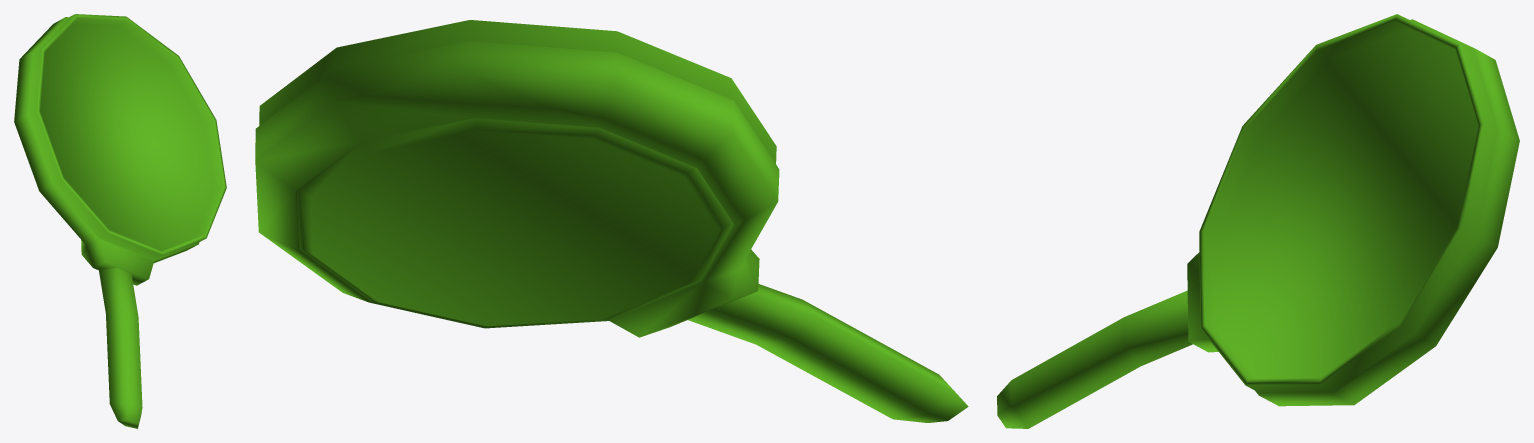
Rendered from Pan.obj.
3 renders of one model, left to right at view 1: azimuth 30°, elevation 25°; view 2: azimuth 150°, elevation 25°; view 3: azimuth 270°, elevation 25°, orthographic. The views are drawn at different scales.
Visible parts, largest first — view 1: Cylinder001; view 2: Cylinder001; view 3: Cylinder001.
Part boxes in pixels (bbox=[...]): Cylinder001: bbox=[14, 14, 226, 428]; Cylinder001: bbox=[255, 20, 968, 422]; Cylinder001: bbox=[997, 14, 1519, 428].
Size of the model in its own units: 0.1492 by 0.1812 by 0.1916.
